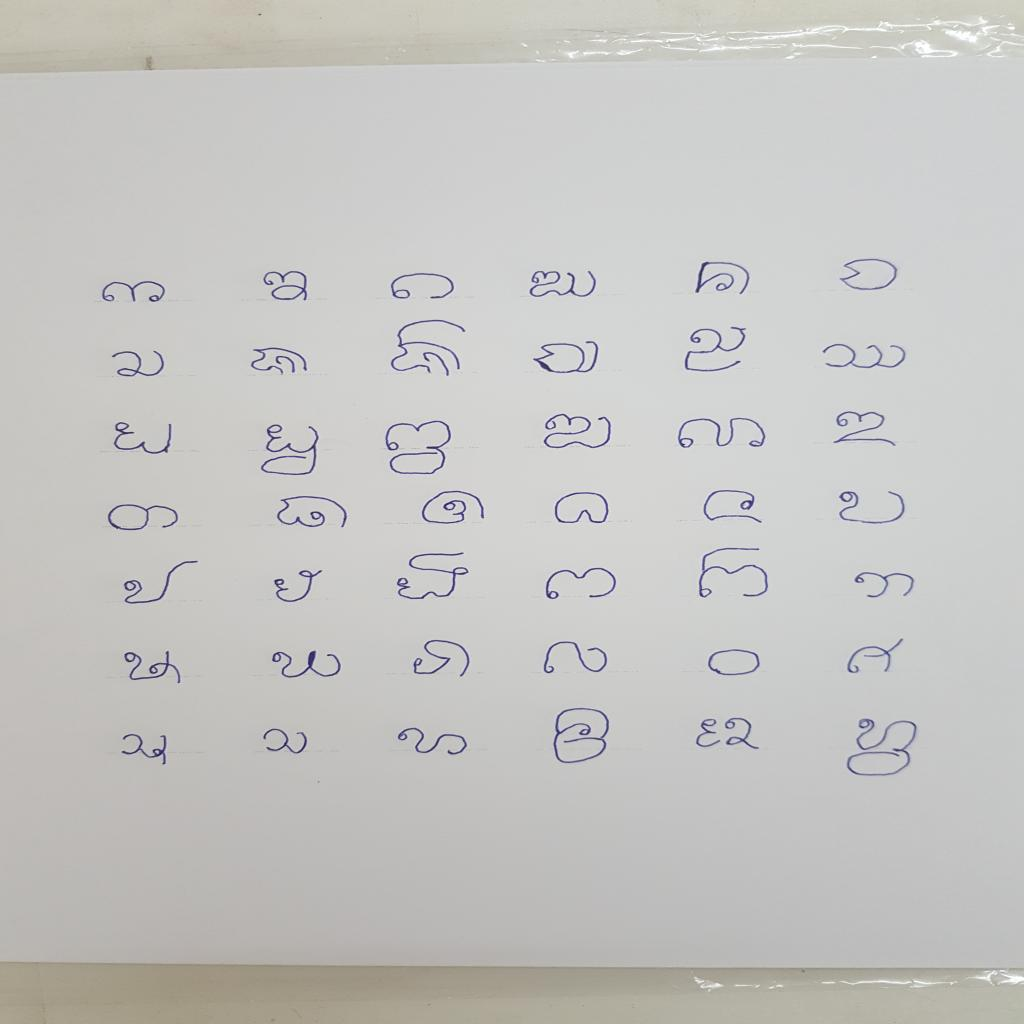LN001: (97, 278, 172, 307)
LN002: (259, 270, 316, 306)
LN003: (384, 270, 461, 304)
LN004: (522, 268, 604, 302)
LN005: (689, 258, 757, 299)
LN006: (835, 257, 904, 295)
LN007: (106, 349, 174, 381)
LN008: (245, 345, 314, 379)
LN009: (388, 317, 476, 381)
LN011: (680, 324, 754, 376)
LN012: (817, 340, 912, 374)
LN014: (256, 422, 327, 480)
LN015: (379, 418, 459, 479)
LN017: (671, 416, 774, 453)
LN018: (826, 408, 903, 450)
LN019: (104, 502, 186, 535)
LN020: (272, 494, 354, 533)
LN021: (417, 488, 492, 529)
LN022: (550, 490, 615, 527)
LN023: (696, 487, 769, 528)
LN024: (833, 488, 914, 527)
LN025: (119, 557, 205, 608)
LN026: (269, 567, 328, 607)
LN027: (392, 550, 476, 604)
LN028: (540, 565, 623, 604)
LN029: (694, 545, 777, 602)
LN030: (849, 570, 921, 603)
LN031: (118, 648, 189, 688)
LN032: (267, 649, 349, 682)
LN035: (703, 646, 767, 680)
LN036: (841, 635, 911, 678)
LN037: (116, 731, 175, 769)
LN038: (259, 726, 314, 759)
LN040: (549, 706, 619, 768)
LN041: (690, 715, 769, 754)
LN042: (842, 716, 925, 782)
